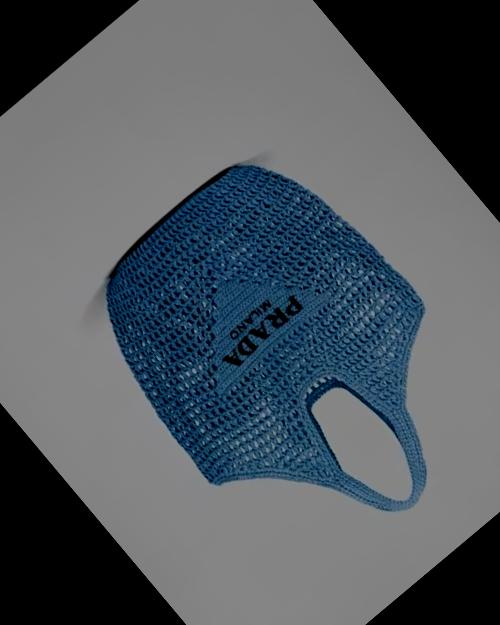PRADA: (160, 226, 338, 397)
